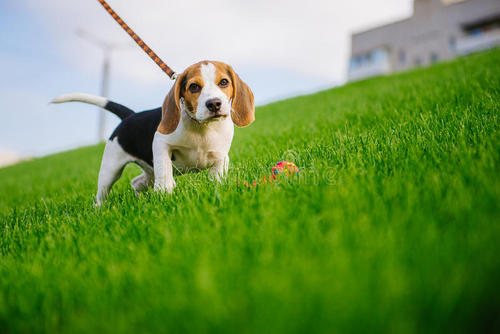dog: (41, 57, 260, 208)
